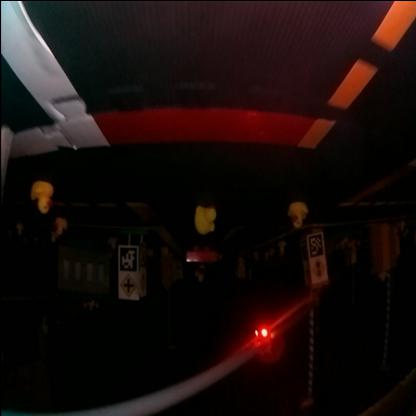Duckie: (32, 180, 54, 212), (196, 206, 216, 233), (290, 202, 306, 226), (54, 218, 68, 236), (110, 238, 116, 246), (278, 242, 284, 249)
Intersection sign: (119, 272, 136, 300)
QR code: (120, 247, 136, 270), (308, 233, 324, 256)
Signal sign: (310, 260, 326, 279)
